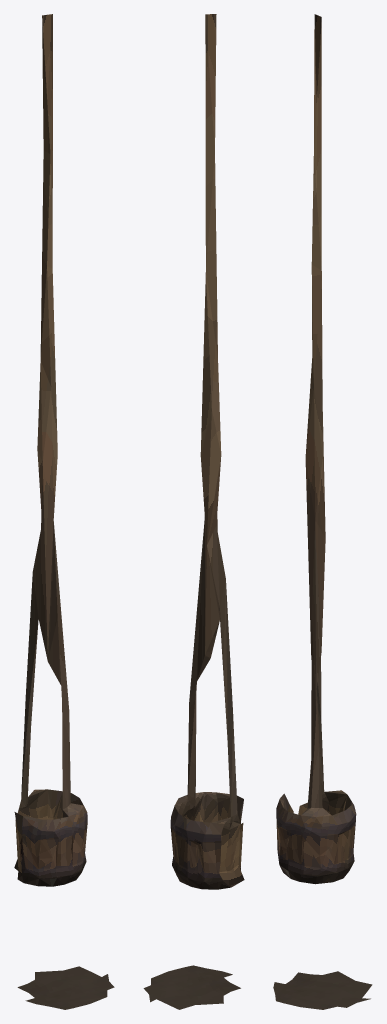
Rendered from puits_seau.glb.
3 views of the same model, side by side, from view 1: azimuth 30°, elevation 25°; view 2: azimuth 210°, elevation 25°; view 3: azimuth 330°, elevation 25° (orthographic).
Visible parts, largest first — view 1: seau; view 2: seau; view 3: seau.
Boxes of the visible parts, x1,y1,x2,y2 form: seau: [14, 14, 114, 1009]; seau: [143, 14, 244, 1009]; seau: [273, 14, 372, 1009].
Size of the model in its own units: 0.4987 by 5.1 by 0.4687.
Materials: 1 (1 with a texture image).
